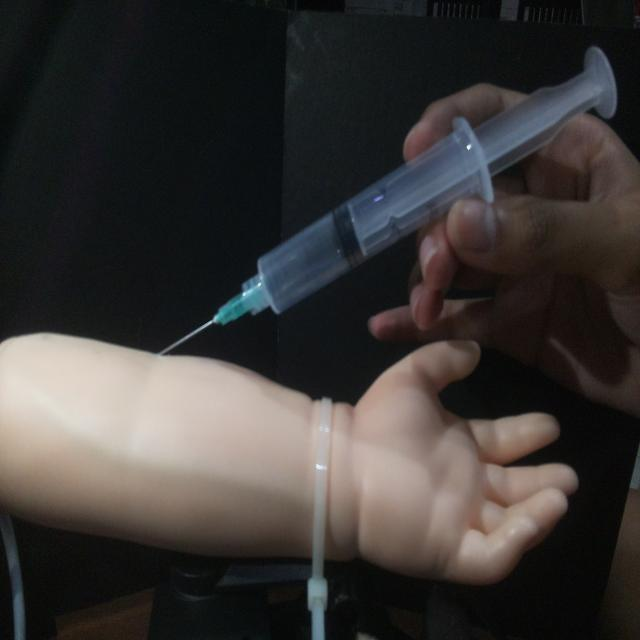25deg: (152, 42, 620, 358)
